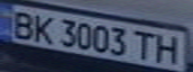0: (90, 22, 112, 55), (72, 20, 93, 52)
3: (54, 16, 78, 48), (109, 25, 130, 57)
B: (6, 8, 39, 39)
H: (151, 33, 187, 65)
K: (27, 12, 57, 45)
T: (130, 28, 160, 62)
